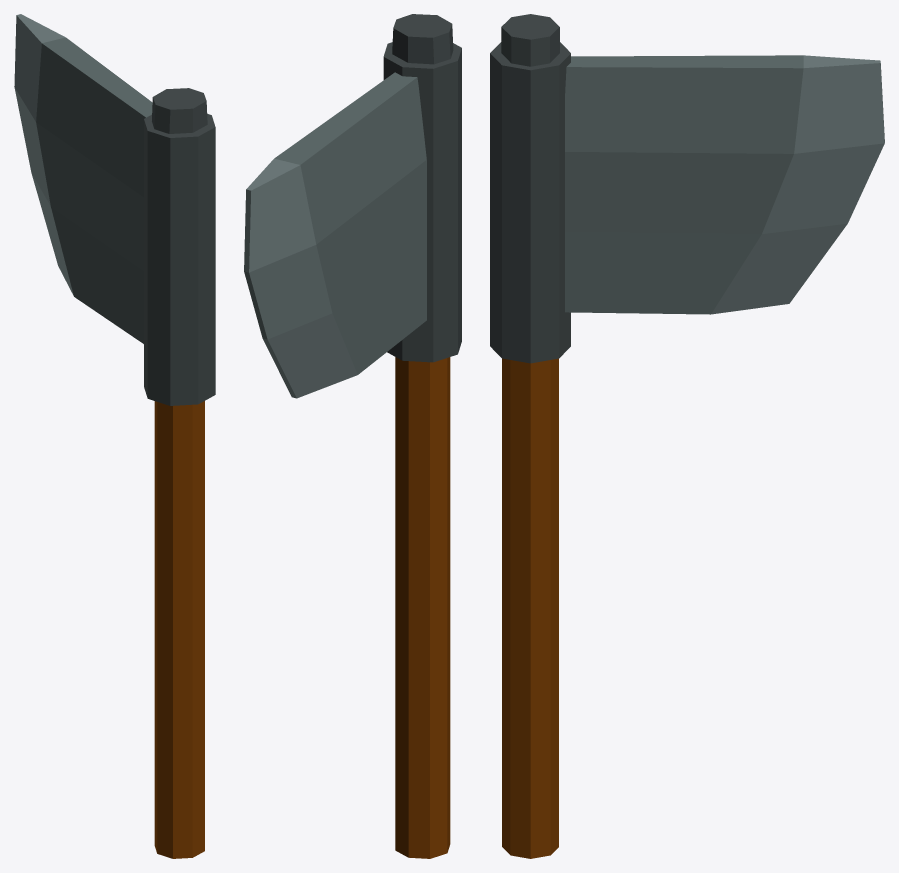
File: Axe2.fbx
3 views of the same model, side by side, from view 1: azimuth 30°, elevation 25°; view 2: azimuth 150°, elevation 25°; view 3: azimuth 270°, elevation 25° (orthographic). The views are drawn at different scales.
Visible parts, largest first — view 1: Cube.025; view 2: Cube.025; view 3: Cube.025.
Boxes of the visible parts, x1,y1,x2,y2 form: Cube.025: [14, 14, 215, 858]; Cube.025: [244, 14, 461, 858]; Cube.025: [490, 14, 884, 858].
Bounding box in the file's own units: 0.0716 × 0.3487 × 0.7993.
